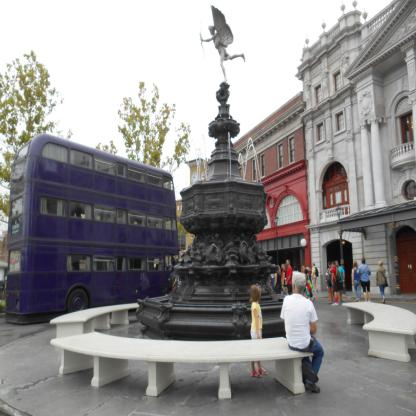Bus: (2, 131, 182, 326)
